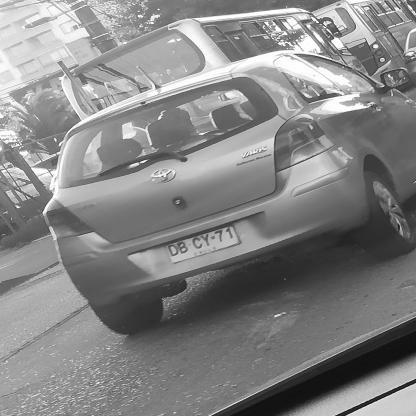Patente: (164, 222, 244, 263)
